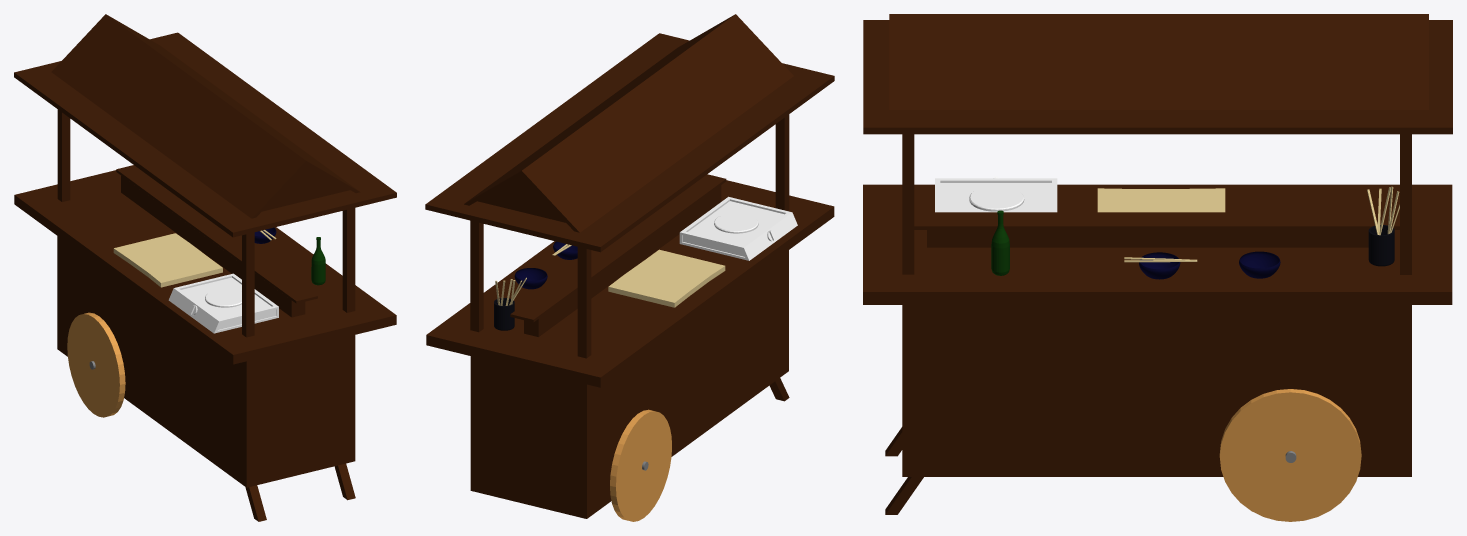
The model's file is ramen_cart.gltf.
The picture shows the model from 3 angles, left to right: view 1: azimuth 30°, elevation 25°; view 2: azimuth 150°, elevation 25°; view 3: azimuth 270°, elevation 25°; orthographic projection. The views are drawn at different scales.
Parts seen in each view (by area): view 1: Cube.003, Cube, Cube.001, Cube.004, Cylinder, Cube.002, oven, cutting board, bottle; view 2: Cube.003, Cube, Cube.001, Cube.004, Cylinder, oven, Cube.002, cutting board, Cylinder.002, Bowl.001; view 3: Cube, Cube.003, Cube.001, Cube.004, Cylinder, oven, Cube.002, cutting board, Cylinder.002, bottle, Bowl.001, Bowl.
Boxes of the visible parts, x1=… form: Cube.003: x1=14, y1=14, x2=396, y2=237; Cube: x1=57, y1=236, x2=355, y2=521; Cube.001: x1=14, y1=170, x2=396, y2=364; Cube.004: x1=116, y1=165, x2=317, y2=317; Cylinder: x1=67, y1=312, x2=125, y2=417; Cube.002: x1=57, y1=109, x2=355, y2=337; oven: x1=168, y1=273, x2=278, y2=333; cutting board: x1=113, y1=233, x2=222, y2=287; bottle: x1=311, y1=237, x2=325, y2=285; Cube.003: x1=425, y1=14, x2=834, y2=252; Cube: x1=470, y1=250, x2=789, y2=518; Cube.001: x1=426, y1=180, x2=834, y2=387; Cube.004: x1=510, y1=174, x2=726, y2=336; Cylinder: x1=610, y1=409, x2=671, y2=521; oven: x1=679, y1=196, x2=797, y2=260; Cube.002: x1=470, y1=114, x2=789, y2=358; cutting board: x1=608, y1=249, x2=725, y2=307; Cylinder.002: x1=494, y1=298, x2=514, y2=330; Bowl.001: x1=514, y1=268, x2=547, y2=289; Cube: x1=885, y1=305, x2=1411, y2=514; Cube.003: x1=863, y1=14, x2=1452, y2=134; Cube.001: x1=863, y1=184, x2=1452, y2=304; Cube.004: x1=914, y1=212, x2=1399, y2=247; Cylinder: x1=1219, y1=389, x2=1361, y2=521; oven: x1=935, y1=176, x2=1057, y2=212; Cube.002: x1=902, y1=134, x2=1411, y2=274; cutting board: x1=1097, y1=188, x2=1225, y2=212; Cylinder.002: x1=1368, y1=225, x2=1394, y2=266; bottle: x1=991, y1=210, x2=1009, y2=275; Bowl.001: x1=1239, y1=251, x2=1280, y2=278; Bowl: x1=1139, y1=252, x2=1180, y2=279.
Size of the model in its own units: 3.02 by 6.13 by 6.98.
